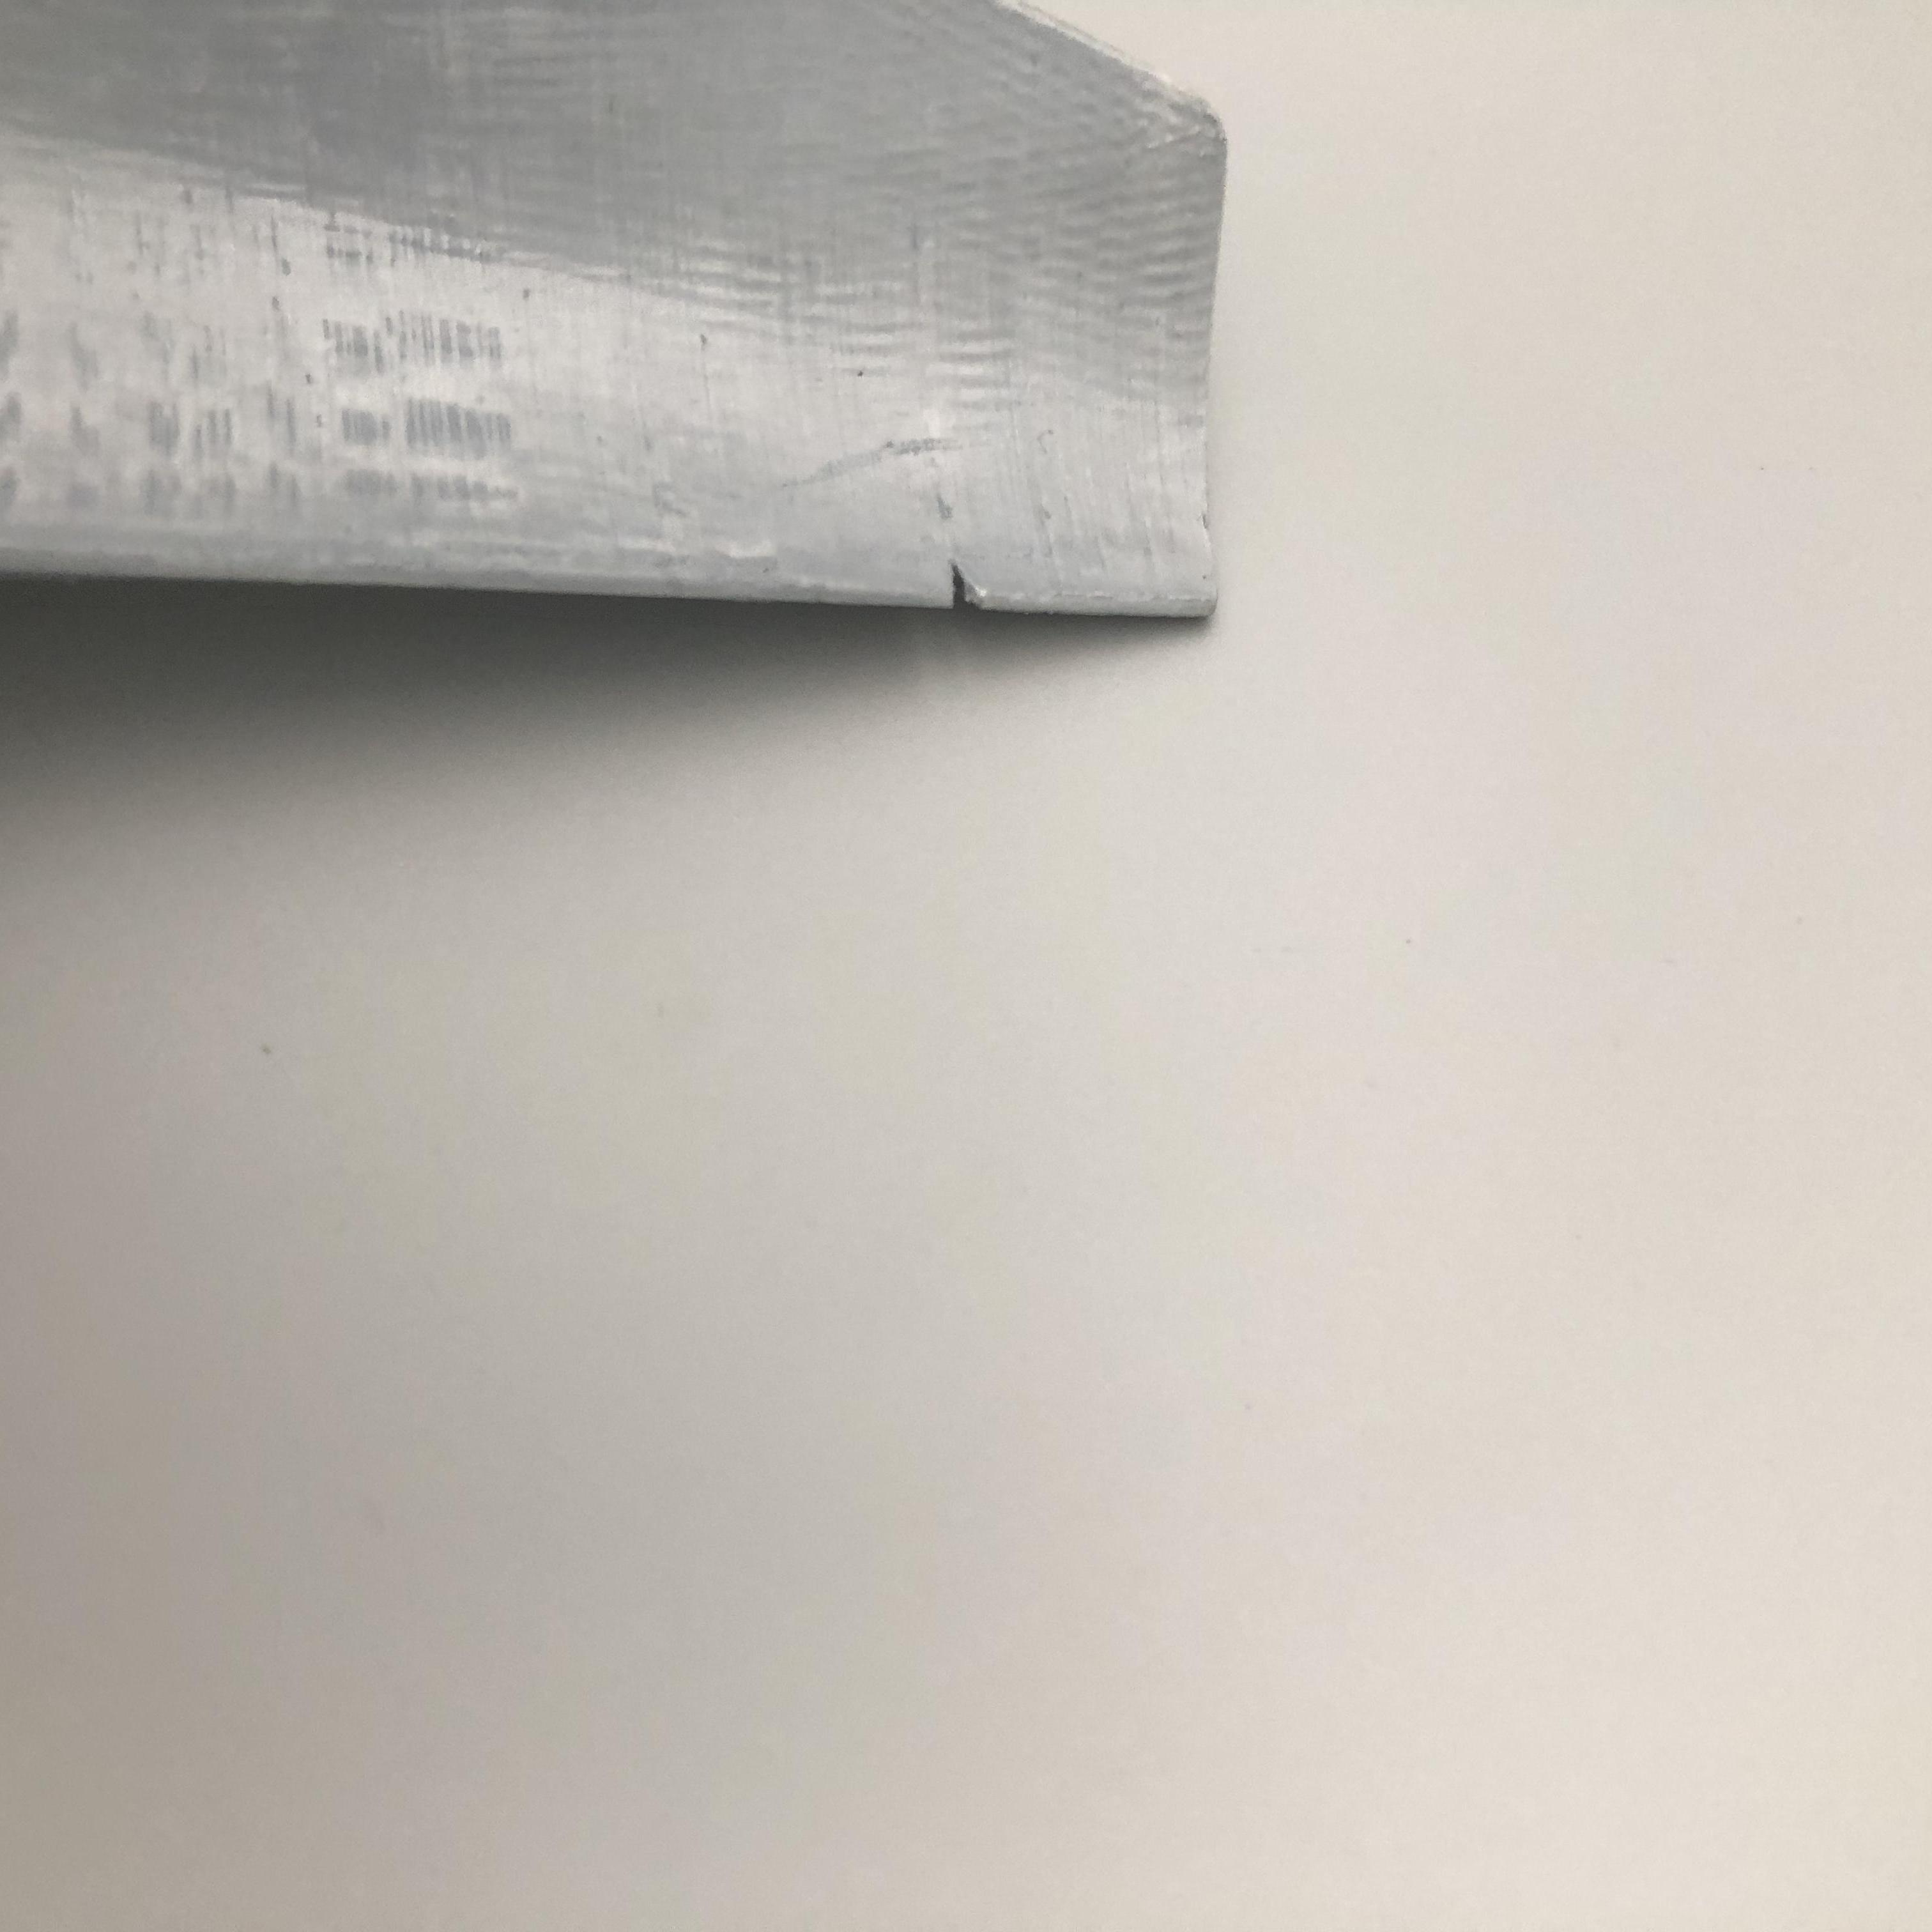groove: (945, 561, 1000, 612)
